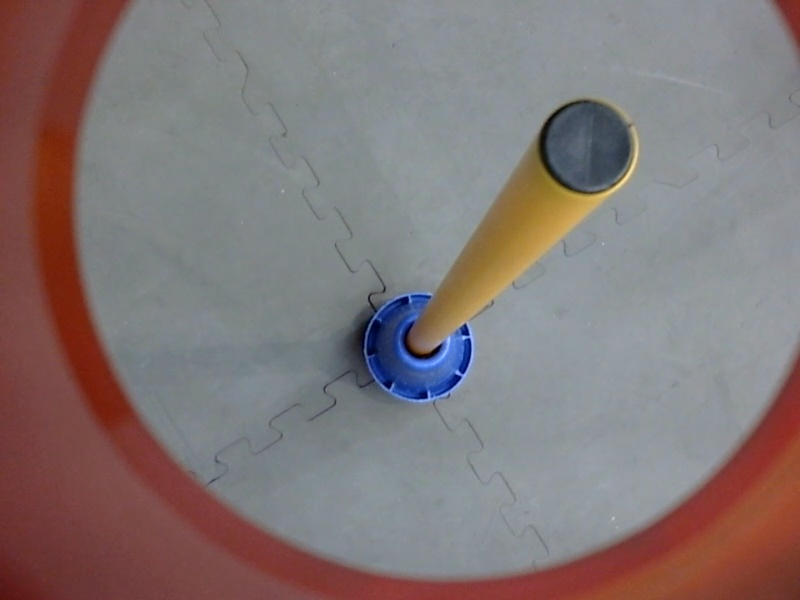tip: (532, 89, 644, 205)
